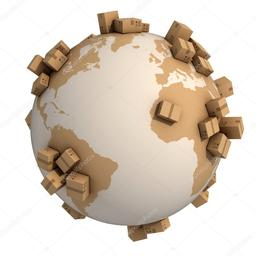cardboard: (63, 171, 90, 207), (47, 150, 81, 176), (29, 146, 60, 174), (153, 100, 182, 124), (197, 112, 213, 140)
